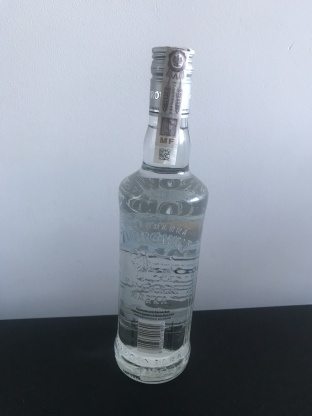nakretka: (147, 41, 196, 121)
